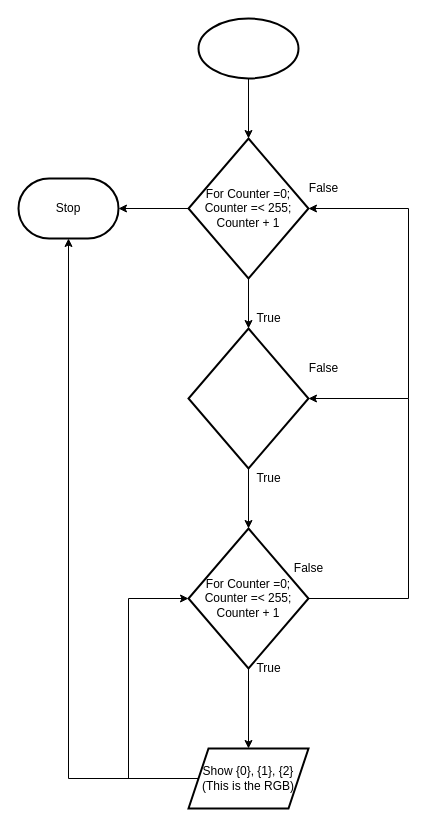
The diagram is 434 pixels wide and 826 high, and some of its shapes have lost their labels. The shapes that lost their labels are listed below. From the top down, each one's centre as x and y in pixels, then its label:
At pixel 248 48: "Start".
At pixel 248 398: "For Counter2 =0; Counter =< 255; Counter2 + 1".
